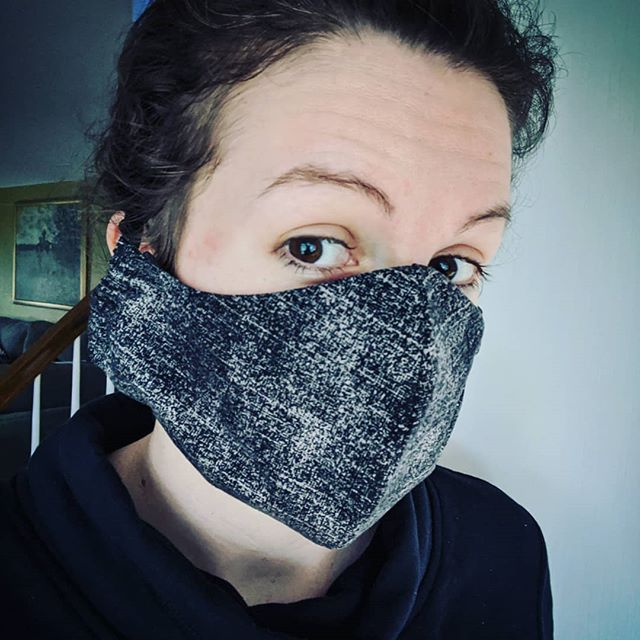homemade: (103, 243, 539, 539)
